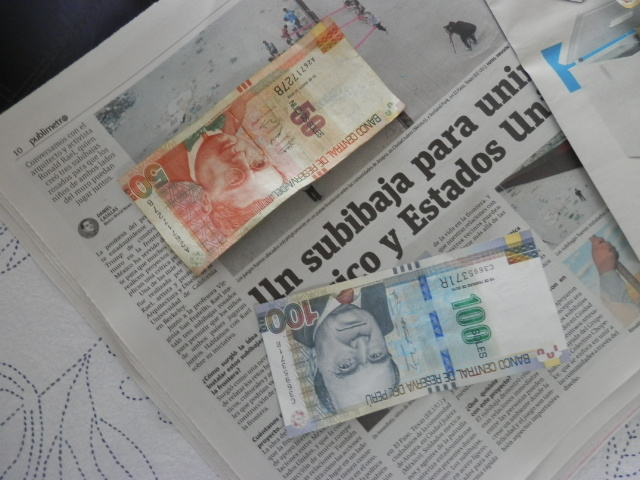B100: (252, 268, 567, 410)
B50: (113, 34, 392, 265)
